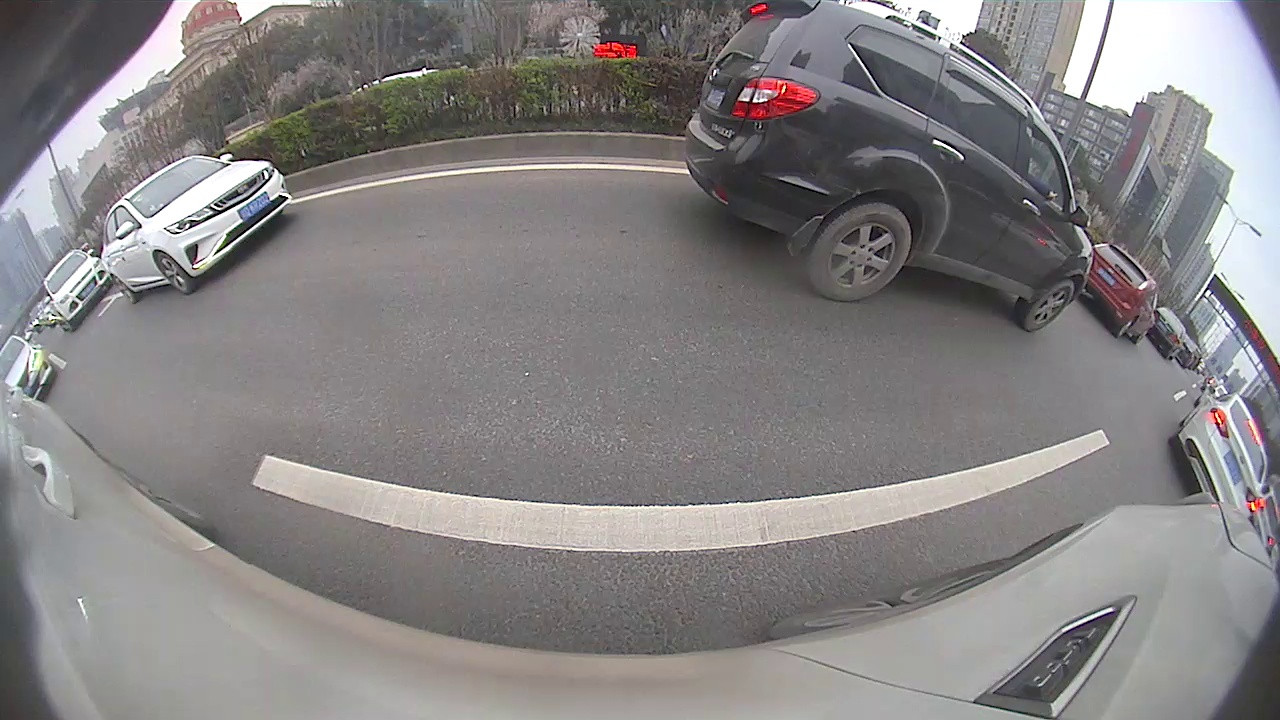car: (683, 2, 1095, 334), (98, 154, 292, 306), (1166, 391, 1272, 523), (1082, 241, 1156, 345), (41, 249, 111, 334), (1, 336, 55, 404), (1147, 306, 1188, 362)
front: (1023, 277, 1076, 333), (154, 251, 194, 295)
rear: (804, 202, 912, 304), (116, 278, 137, 304), (1116, 316, 1136, 339)
